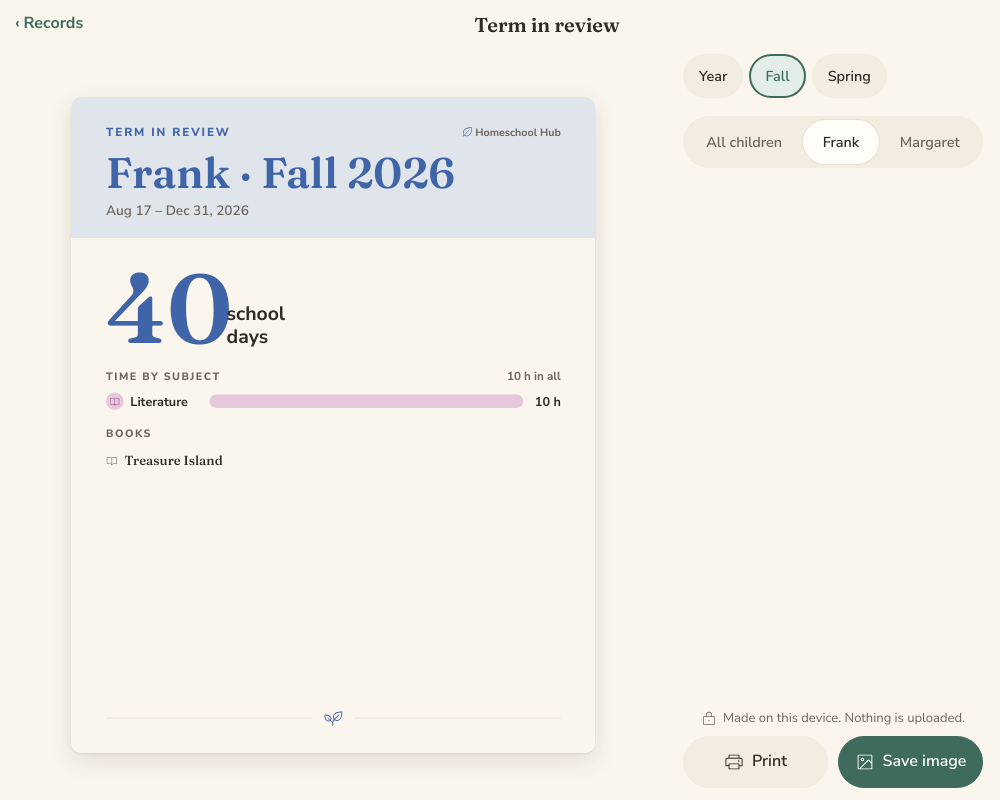
Test case: Term in review page (S13-05) › changing the range or child re-reads the numbers
Expected: the picture "Frank · Fall" is shown, [71,97,595,753]
Click the button "Year".
click(713, 76)  # box [683,54,743,98]
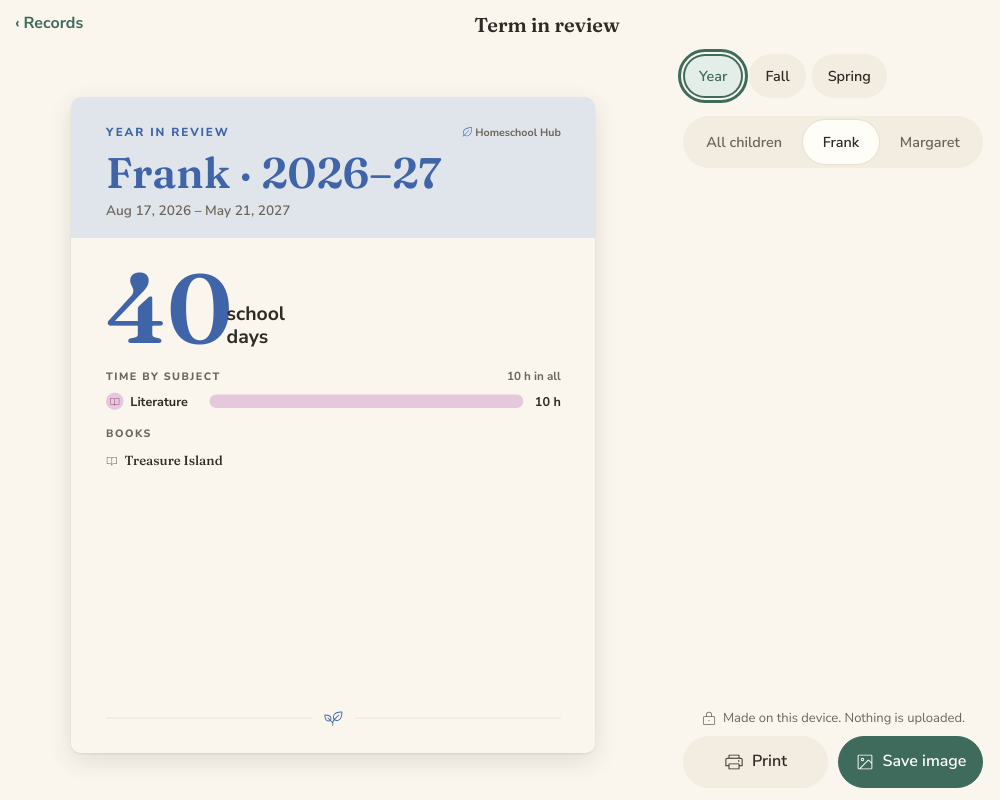
Expected: the picture named "Frank · 2026–27, term in review" is shown, [71,97,595,753]
